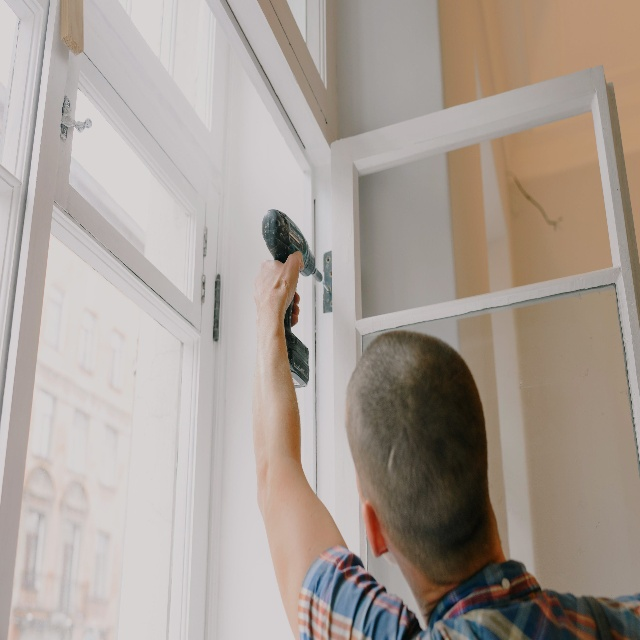Sin_guantes: (252, 248, 305, 326)
